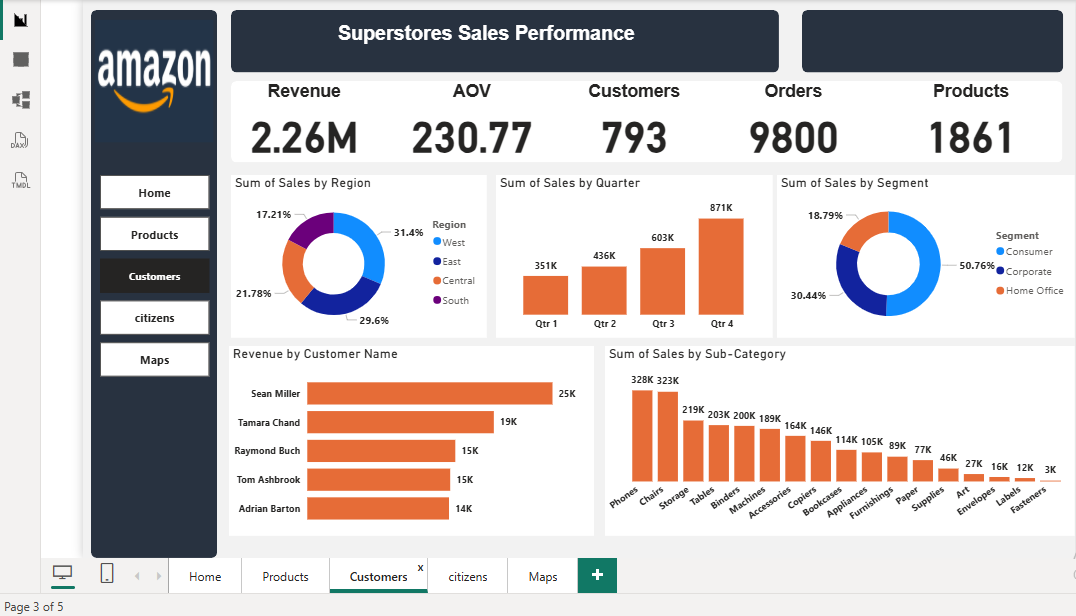

The page's visual inventory and layout, read from the dashboard file:
{"tool":"powerbi","page":{"name":"Customers","canvas":[1280,720],"ordinal":2},"visuals":[{"type":"shape","box":[191.5,13,707,80.6],"z":0},{"type":"shape","box":[927.4,13,337,80.6],"z":1000},{"type":"shape","box":[10.1,13,162.7,707],"z":2000},{"type":"shape","box":[191.5,105.1,1072.8,105.1],"z":3000},{"type":"card","title":"Revenue","fields":{"Values":["train.Revenue"]},"box":[191.5,105.1,188.6,105.1],"z":4000},{"type":"card","title":"Customers","fields":{"Values":["train.Customers"]},"box":[614.9,105.1,191.5,105.1],"z":5000},{"type":"card","title":"Orders","fields":{"Values":["train.Orders"]},"box":[806.4,105.1,220.3,105.1],"z":6000},{"type":"card","title":"Products","fields":{"Values":["train.Products"]},"box":[1026.7,105.1,237.6,105.1],"z":7000},{"type":"card","title":"AOV","fields":{"Values":["train.AOV"]},"box":[398.9,105.1,205.9,105.1],"z":8000},{"type":"clusteredBarChart","fields":{"Category":["train.Customer Name"],"Y":["train.Revenue"]},"box":[188.6,446.4,470.9,244.8],"z":9000},{"type":"columnChart","fields":{"Category":["train.Sub-Category"],"Y":["train.Sales"]},"box":[673.9,446.4,606.2,244.8],"z":10000},{"type":"donutChart","fields":{"Category":["train.Segment"],"Y":["train.Sales"]},"box":[895.7,226.1,384.5,210.2],"z":11000},{"type":"donutChart","fields":{"Category":["train.Region"],"Y":["train.Sales"]},"box":[191.5,226.1,329.8,210.2],"z":12000},{"type":"columnChart","fields":{"Category":["train.Order Date.Variation.Date Hierarchy.Quarter"],"Y":["train.Sales"]},"box":[532.8,226.1,357.1,210.2],"z":13000},{"type":"pageNavigator","box":[21.6,226.1,141.1,260.6],"z":14000},{"type":"image","box":[10.1,20.2,162.7,168.5],"z":15000},{"type":"textbox","title":"Superstores  Sales Performance ","box":[286.6,28.8,468,64.8],"z":16000}]}

Visuals, with their boxes on the page's 1280x720 design canvas (x1, y1, x2, y2). These are canvas units, not pixel positions in the 1076x616 screenshot, which may show the page scaled, cropped or inside an application window:
shape: 192, 13, 898, 94
shape: 927, 13, 1264, 94
shape: 10, 13, 173, 720
shape: 192, 105, 1264, 210
"Revenue" card: 192, 105, 380, 210
"Customers" card: 615, 105, 806, 210
"Orders" card: 806, 105, 1027, 210
"Products" card: 1027, 105, 1264, 210
"AOV" card: 399, 105, 605, 210
clusteredBarChart - train.Customer Name x train.Revenue: 189, 446, 660, 691
columnChart - train.Sub-Category x train.Sales: 674, 446, 1280, 691
donutChart - train.Segment x train.Sales: 896, 226, 1280, 436
donutChart - train.Region x train.Sales: 192, 226, 521, 436
columnChart - train.Order Date.Variation.Date Hierarchy.Quarter x train.Sales: 533, 226, 890, 436
pageNavigator: 22, 226, 163, 487
image: 10, 20, 173, 189
"Superstores  Sales Performance " textbox: 287, 29, 755, 94
